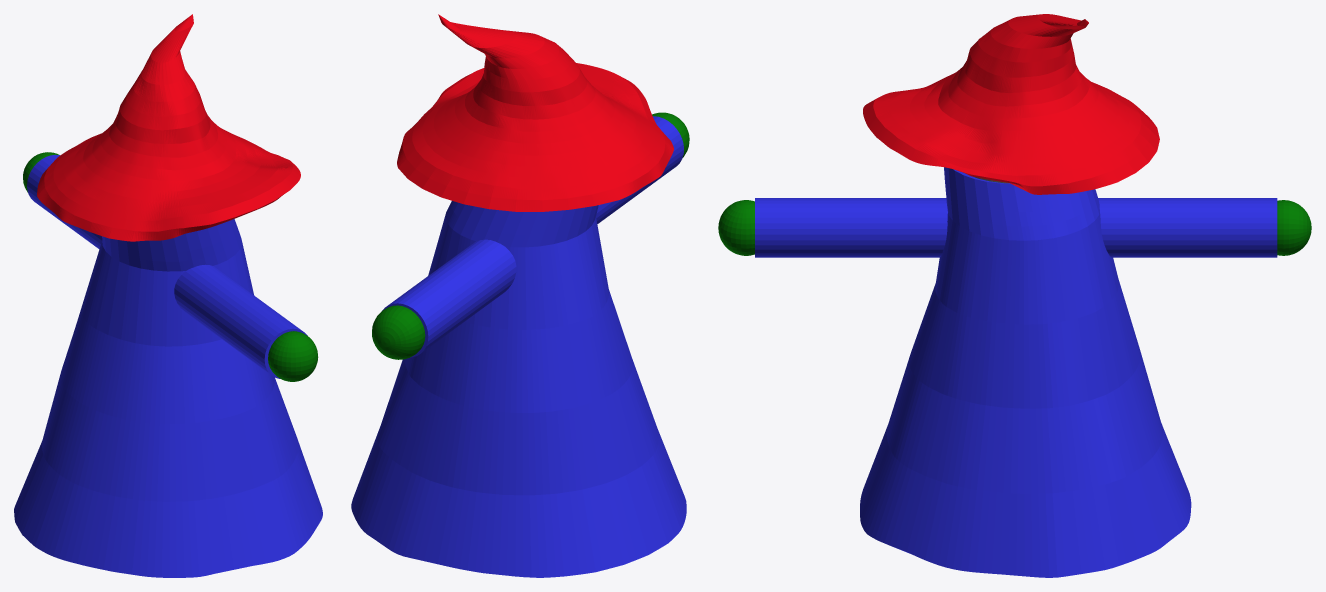
3 views of the same model, side by side, from view 1: azimuth 30°, elevation 25°; view 2: azimuth 150°, elevation 25°; view 3: azimuth 270°, elevation 25° (orthographic). The views are drawn at different scales.
Parts seen in each view (by area): view 1: Cylinder, Cone.001, Cylinder.001, Sphere.001, Cylinder.002; view 2: Cylinder, Cone.001, Cylinder.002, Sphere.002, Cylinder.001, Sphere.001; view 3: Cylinder, Cone.001, Cylinder.001, Cylinder.002, Sphere.001, Sphere.002.
Part boxes in pixels (box(x1,y1,x2,y2)): Cylinder: box(14, 219, 322, 577); Cone.001: box(37, 14, 300, 241); Cylinder.001: box(174, 264, 307, 378); Sphere.001: box(268, 331, 318, 381); Cylinder.002: box(27, 154, 102, 249); Cylinder: box(351, 201, 686, 577); Cone.001: box(397, 14, 673, 211); Cylinder.002: box(382, 239, 516, 357); Sphere.002: box(372, 305, 425, 359); Cylinder.001: box(596, 116, 683, 223); Sphere.001: box(652, 112, 689, 157); Cylinder: box(860, 167, 1191, 577); Cone.001: box(863, 14, 1159, 194); Cylinder.001: box(755, 198, 947, 257); Cylinder.002: box(1098, 198, 1277, 257); Sphere.001: box(718, 200, 754, 255); Sphere.002: box(1277, 200, 1311, 255).
Size of the model in its own units: 9.42 by 15.59 by 16.28.
